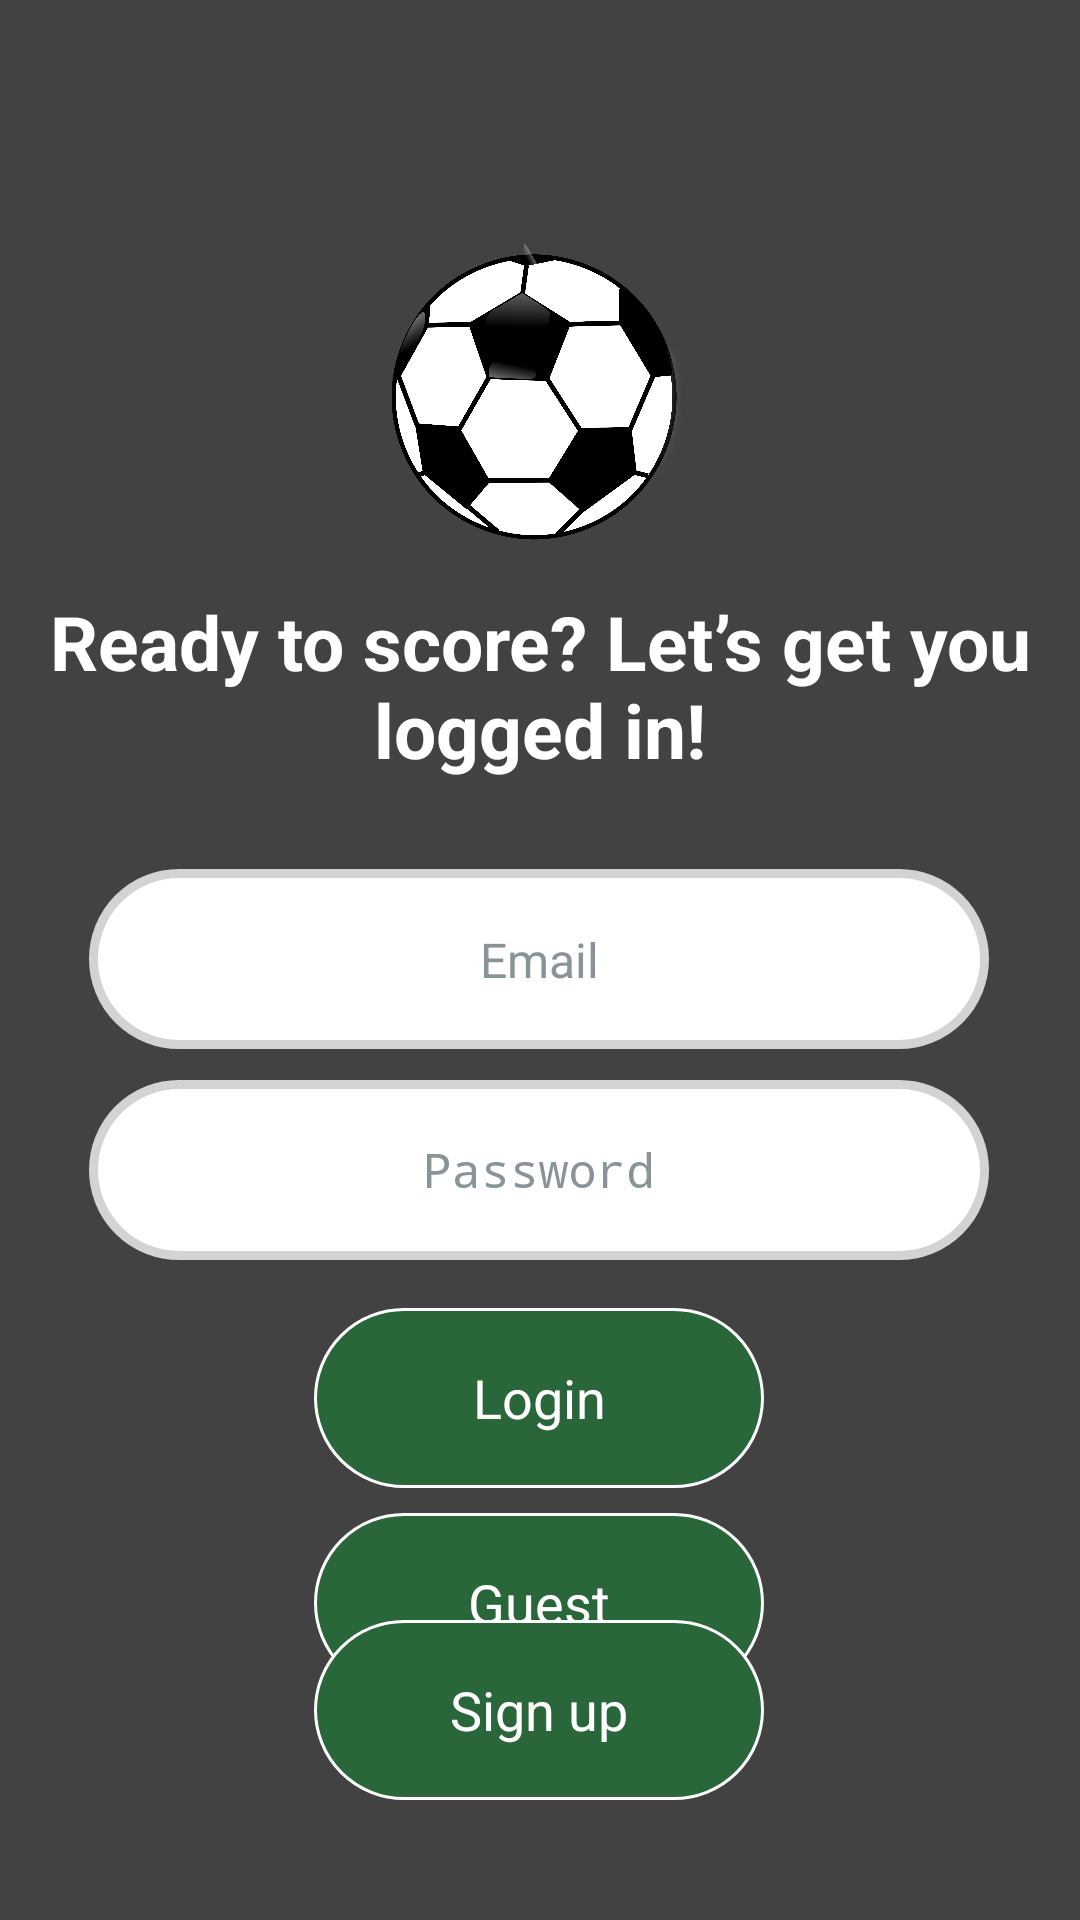

Where to tap for icons on this 1080 × 1920 app screen, as [x,y]:
ball: [534,391]
